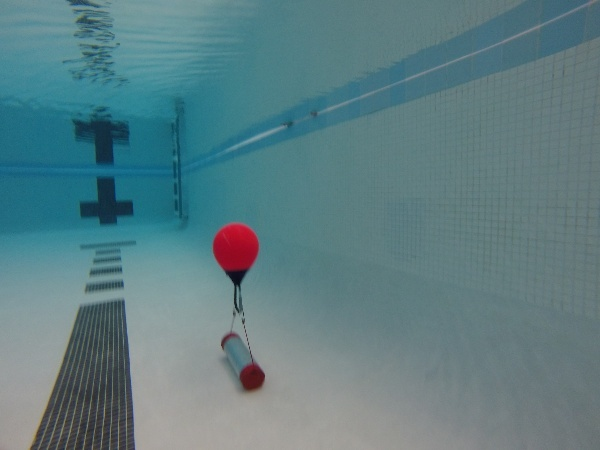buoy_red: (207, 223, 264, 290)
